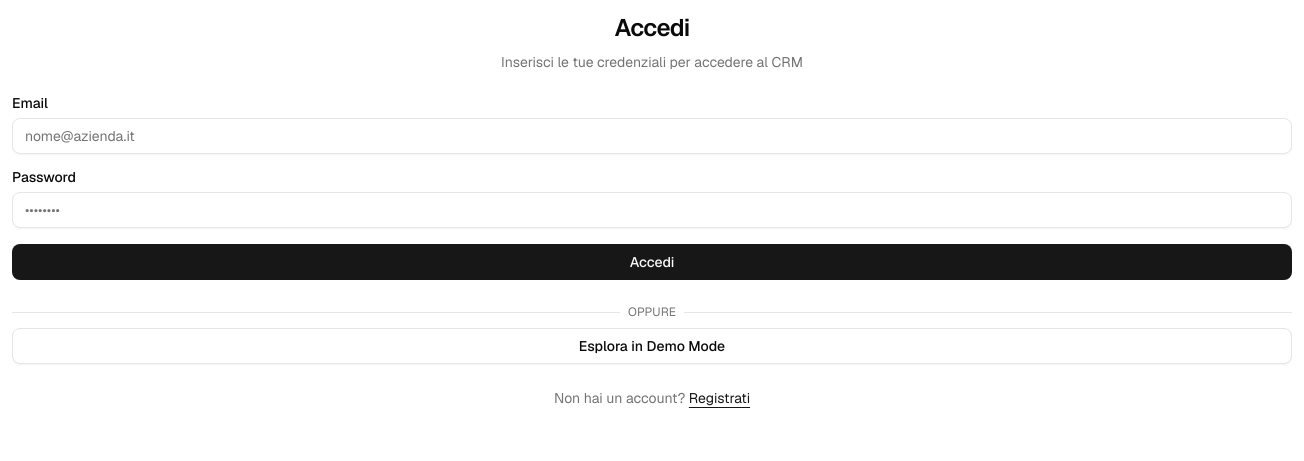
SignInForm › shows error when signIn returns error during demo mode
Click the button "Esplora in Demo Mode" at (652, 346), box [12,328,1292,364]
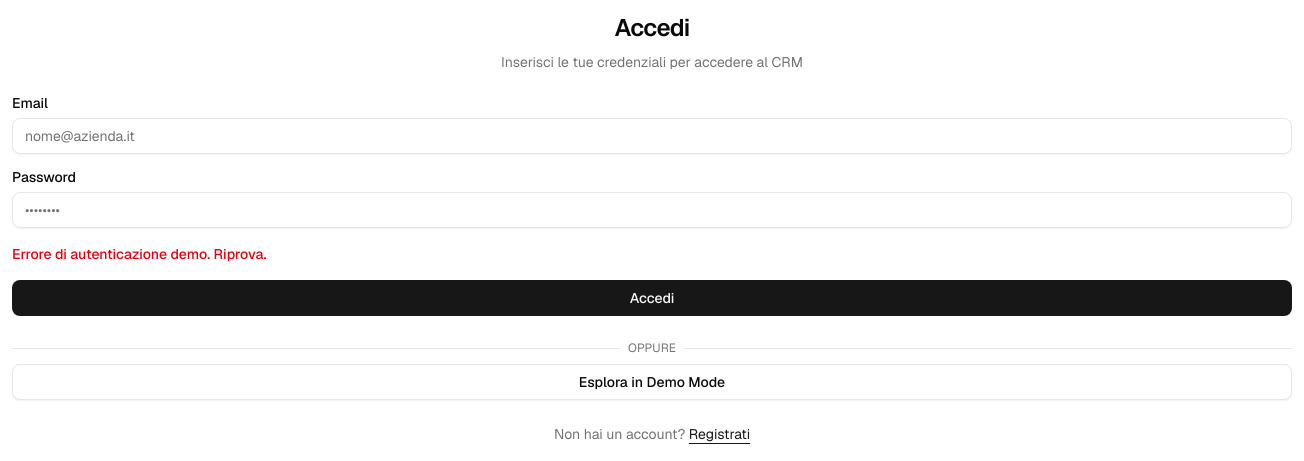
expect the text "Errore di autenticazione demo. Riprova." is shown: met, box [12,245,267,263]
